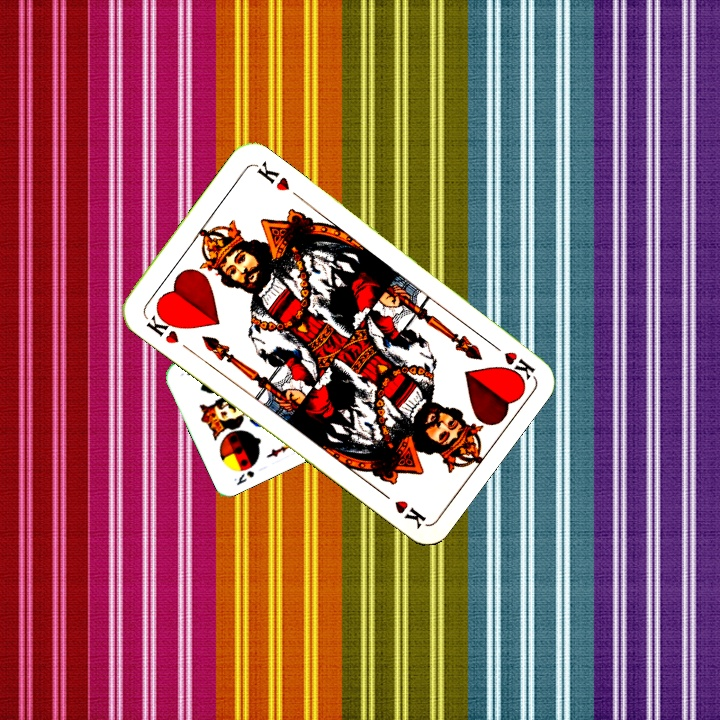HK: (484, 337, 537, 382), (141, 306, 183, 347)
SK: (229, 466, 257, 488)
